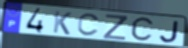4: (25, 7, 46, 35)
C: (129, 16, 156, 44), (76, 13, 102, 38)
J: (159, 20, 181, 44)
K: (52, 10, 73, 36)
Z: (102, 14, 128, 42)
